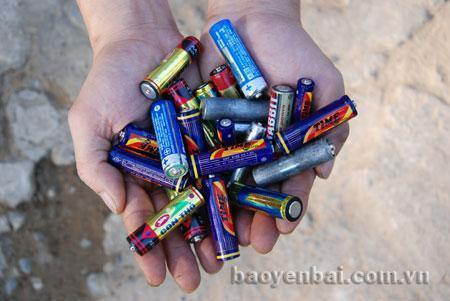AA: (122, 181, 209, 261), (272, 91, 364, 159), (204, 16, 272, 104), (137, 31, 207, 104), (188, 134, 281, 182), (201, 172, 243, 265), (226, 180, 306, 226), (147, 98, 191, 181)
